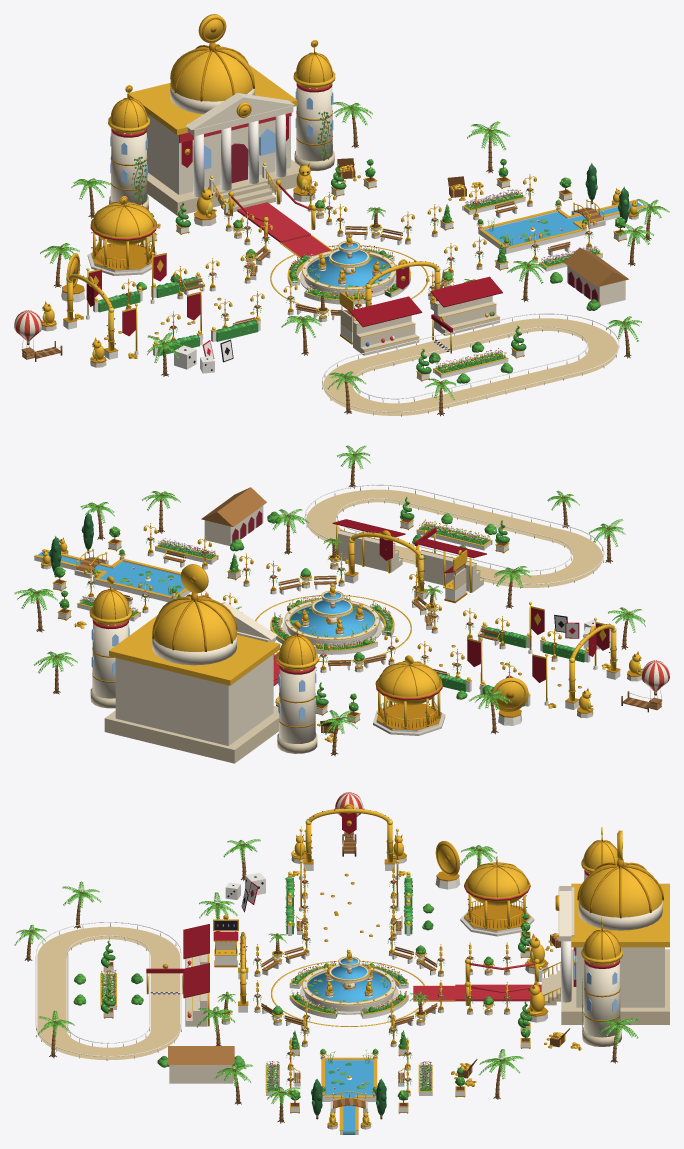
The model's file is casino2-jeu.glb.
The picture shows the model from 3 angles, top to bottom: view 1: azimuth 30°, elevation 25°; view 2: azimuth 150°, elevation 25°; view 3: azimuth 270°, elevation 25°; orthographic projection.
Parts seen in each view (by area): view 1: piste, coupole.004, tour, mur, gradin.012, eau.004, corniche.004, colonne.018, dais.002, fronton.002, soubassement, kama.132 (+28 smaller); view 2: mur, piste, coupole.004, corniche.004, tour, soubassement, eau.004, gradin.012, kama.132, cote.036, barriere.002, toit (+24 smaller); view 3: piste, coupole.004, eau.004, mur, corniche.004, tour, soubassement, cote.036, dais.002, kama.132, haie.274, toit (+25 smaller).
Part boxes in pixels (x1,y1,x2,y2): piste: (323, 318, 618, 415); coupole.004: (93, 45, 332, 245); tour: (110, 83, 332, 204); mur: (146, 113, 290, 194); gradin.012: (353, 295, 499, 355); eau.004: (307, 212, 580, 287); corniche.004: (108, 65, 335, 134); colonne.018: (193, 114, 286, 197); dais.002: (349, 276, 502, 327); fronton.002: (186, 93, 294, 136); soubassement: (147, 159, 299, 215); kama.132: (41, 14, 637, 359); mur: (115, 654, 273, 745); piste: (306, 489, 602, 587); coupole.004: (92, 589, 440, 705); corniche.004: (89, 607, 318, 685); tour: (92, 622, 315, 743); soubassement: (104, 706, 278, 763); eau.004: (100, 561, 374, 637); gradin.012: (338, 530, 483, 592); kama.132: (42, 530, 640, 741); cote.036: (92, 589, 439, 696); barriere.002: (304, 484, 604, 584); toit: (201, 487, 266, 526); piste: (37, 926, 180, 1060); coupole.004: (466, 840, 662, 965); eau.004: (307, 958, 390, 1097); mur: (576, 947, 664, 1007); corniche.004: (571, 859, 669, 963); tour: (583, 873, 620, 1037); soubassement: (561, 949, 669, 1024); cote.036: (466, 840, 663, 959); dais.002: (183, 924, 209, 998); kama.132: (162, 804, 622, 1125); haie.274: (101, 913, 532, 1100); toit: (168, 1046, 234, 1064).
Bounding box in the file's own units: 58.01 × 14.78 × 53.18.
